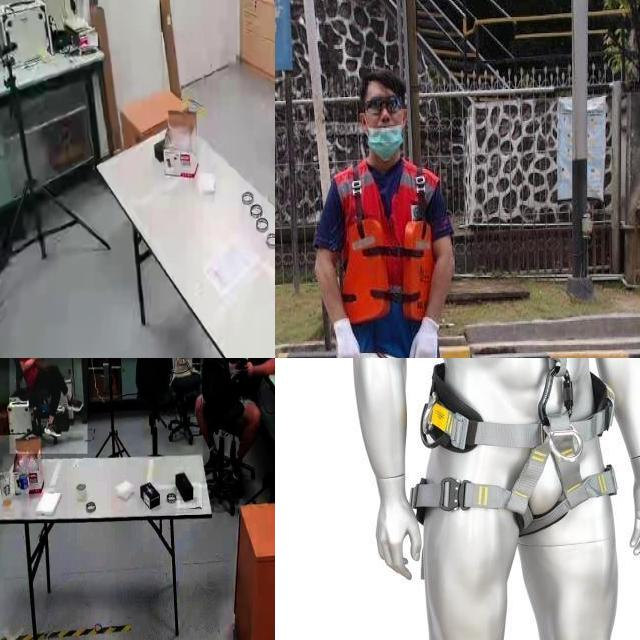Harness: (412, 358, 617, 536)
hand_noglove: (236, 358, 248, 380), (241, 360, 253, 378), (31, 358, 44, 360)
person: (295, 62, 485, 358), (202, 358, 275, 483), (9, 358, 88, 454)
shoes: (64, 388, 84, 414), (43, 418, 62, 439)
vest: (335, 158, 442, 358)
